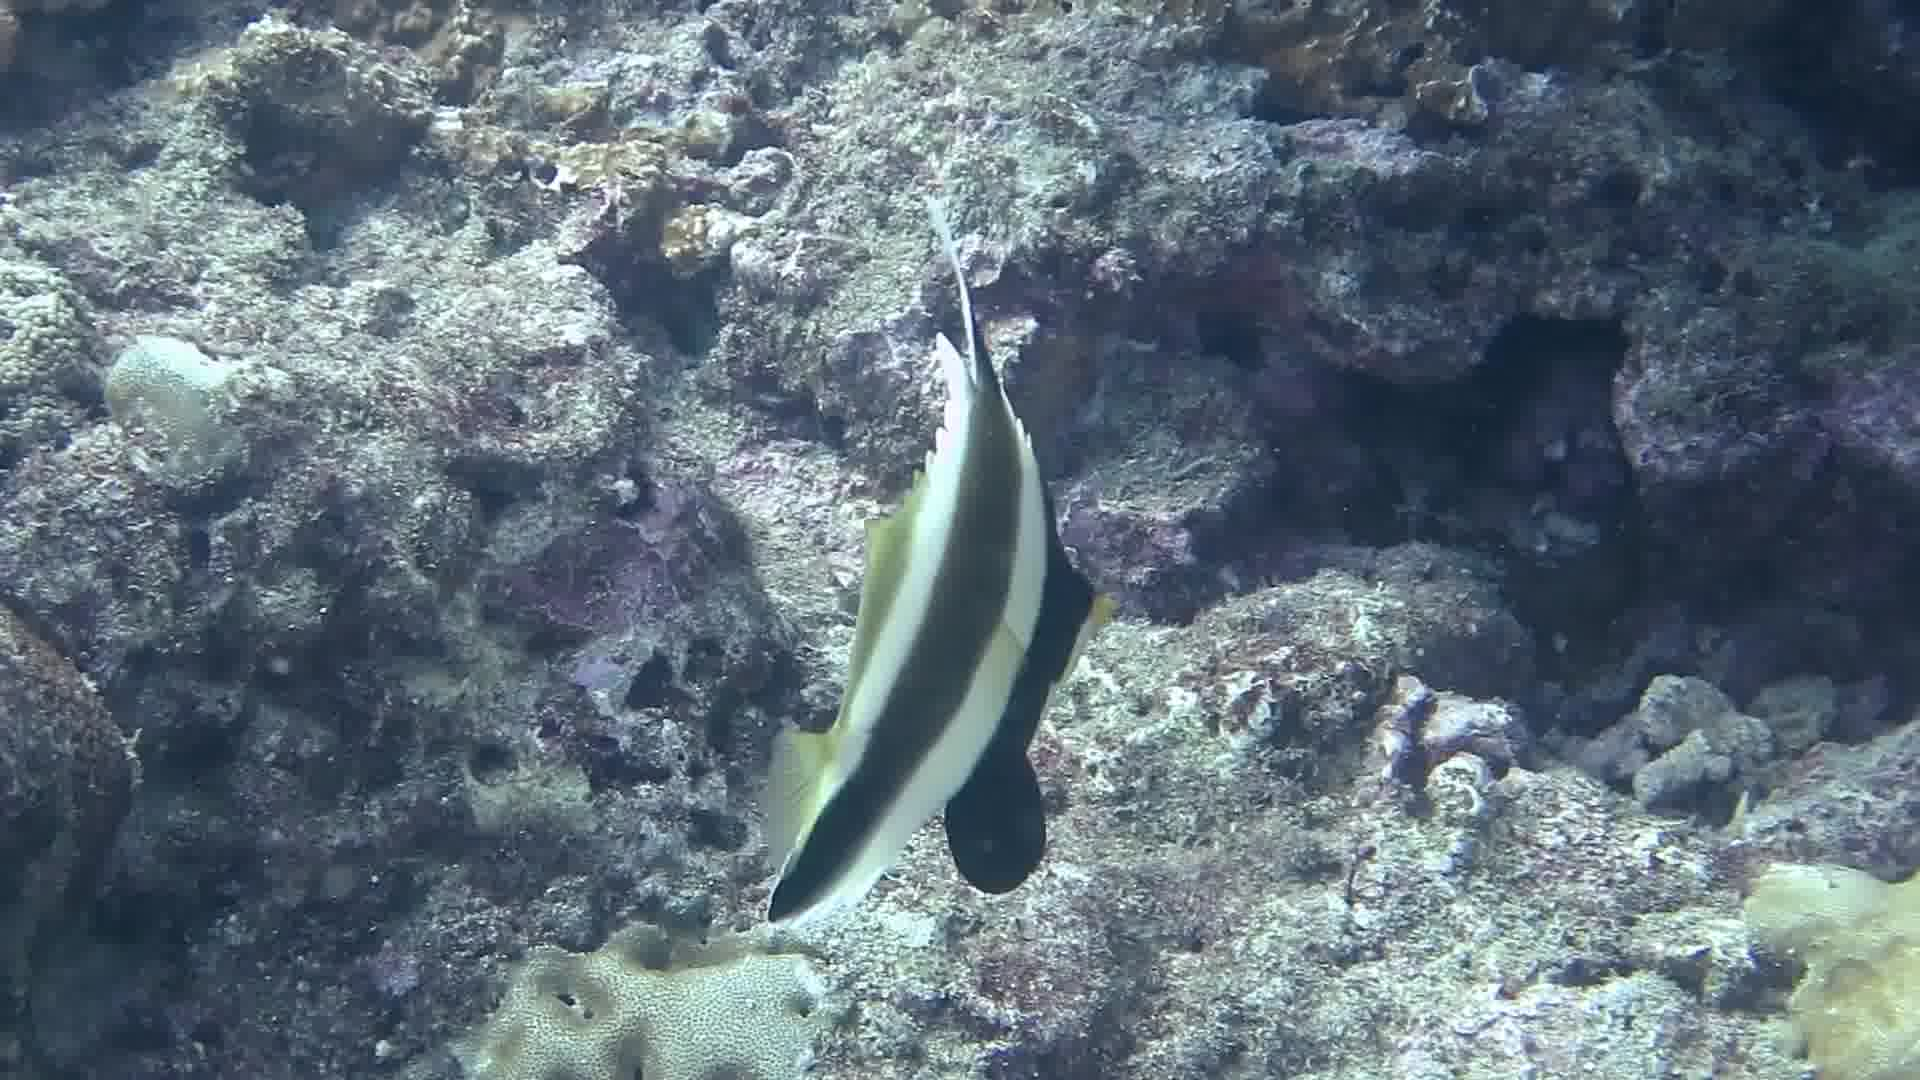Heniochus chrysostomus: (520, 204, 1320, 948)
